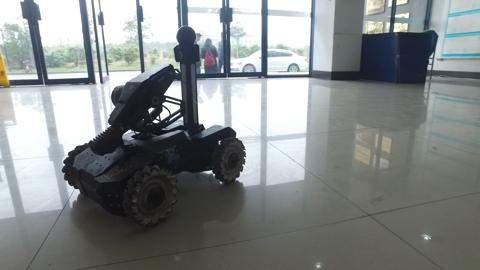chariot: (57, 26, 262, 229)
